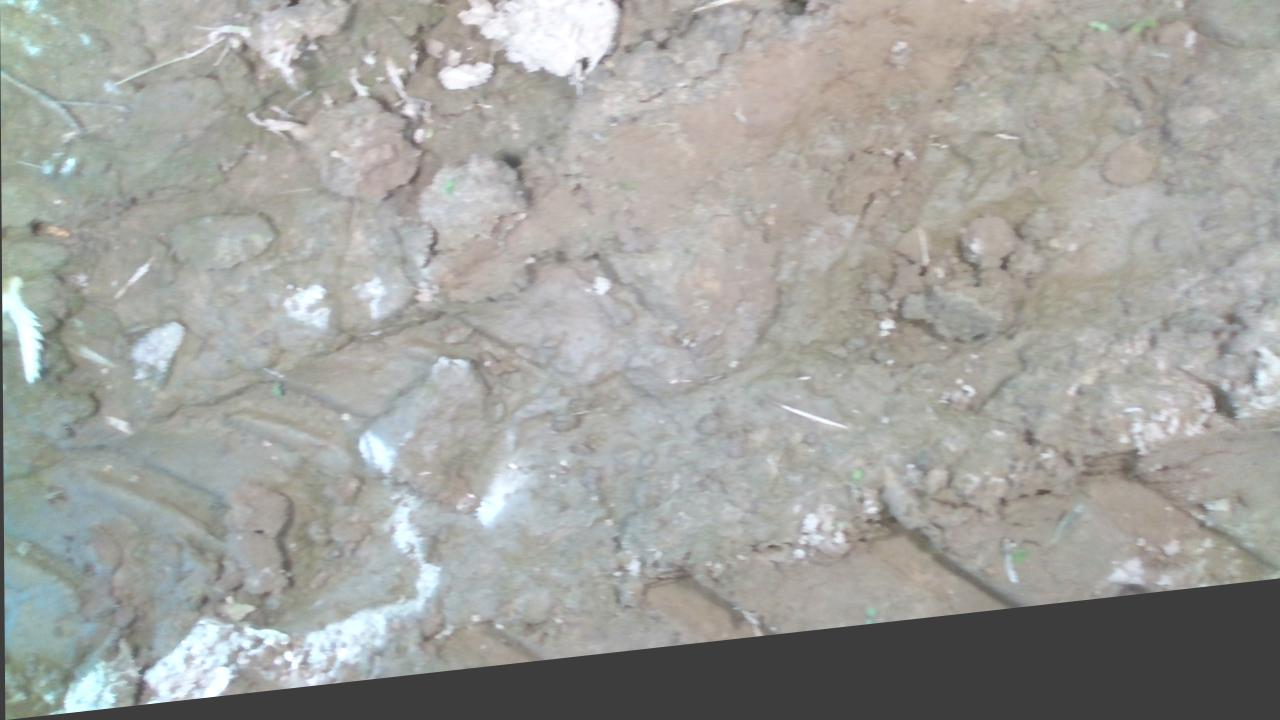weed: (1085, 43, 1110, 59)
